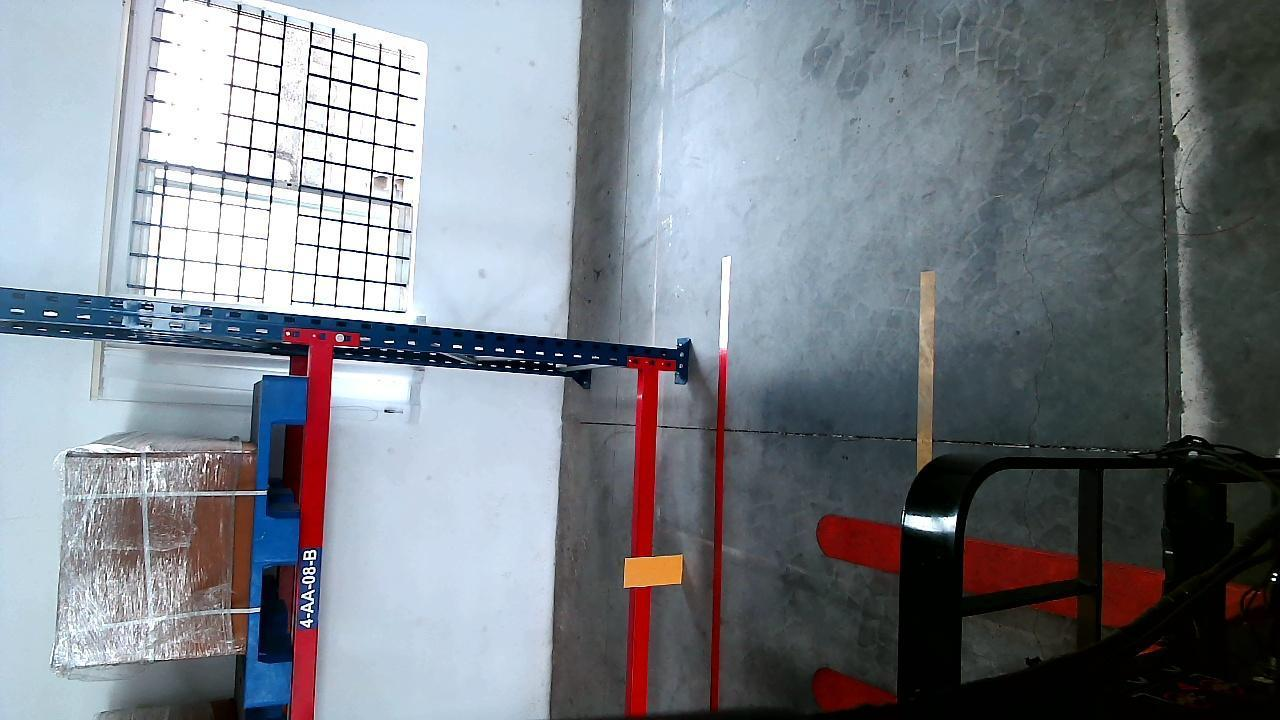h_rack: (295, 347, 337, 718), (628, 369, 664, 720)
orange_strip: (628, 554, 684, 586)
red_line: (707, 253, 733, 717)
small_pallet: (242, 375, 305, 711)
yellow_line: (916, 264, 934, 468)
